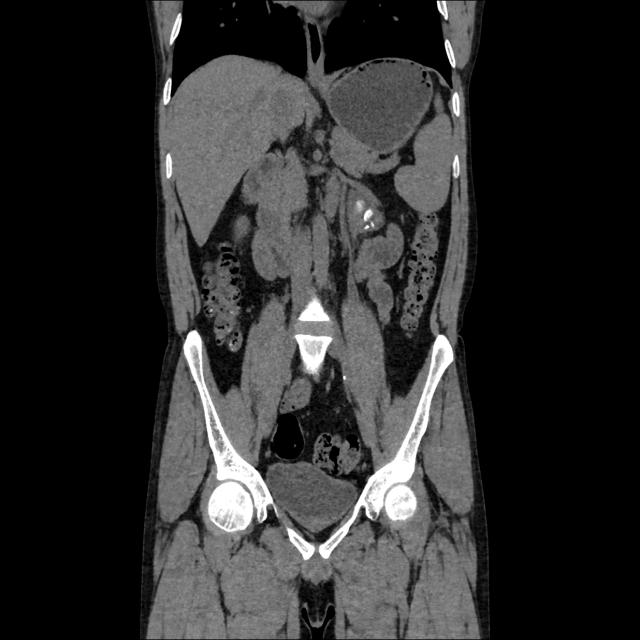kidneystone: (362, 208, 374, 223)
